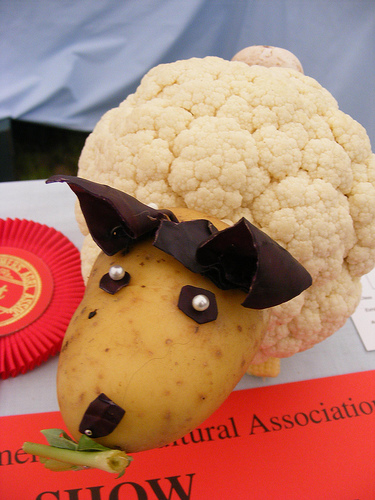cauliflower: (73, 43, 373, 360)
